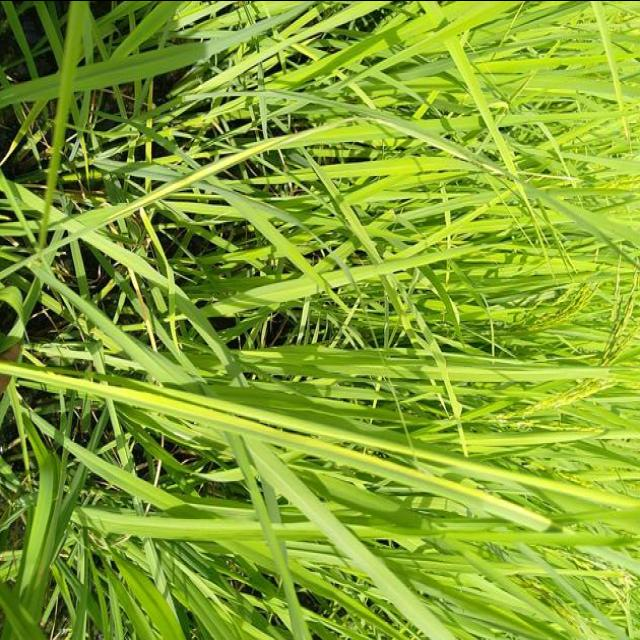Leaf Blight: (128, 266, 156, 351), (153, 458, 162, 485), (161, 433, 165, 447)
